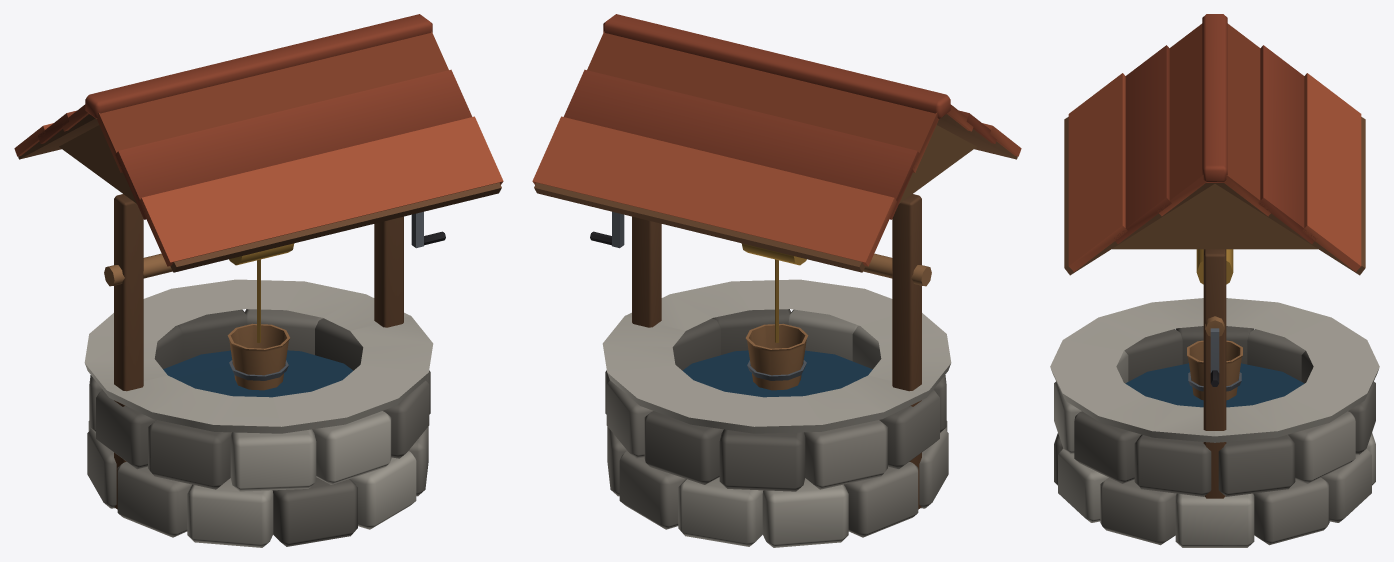
File: prop.well.glb
3 renders of one model, left to right at view 1: azimuth 30°, elevation 25°; view 2: azimuth 150°, elevation 25°; view 3: azimuth 270°, elevation 25°, orthographic. The views are drawn at different scales.
Visible parts, largest first — view 1: well; view 2: well; view 3: well.
Boxes of the visible parts, x1,y1,x2,y2 form: well: (14, 14, 503, 547); well: (532, 14, 1021, 547); well: (1050, 14, 1379, 547).
Size of the model in its own units: 2.72 by 3.09 by 2.34.
